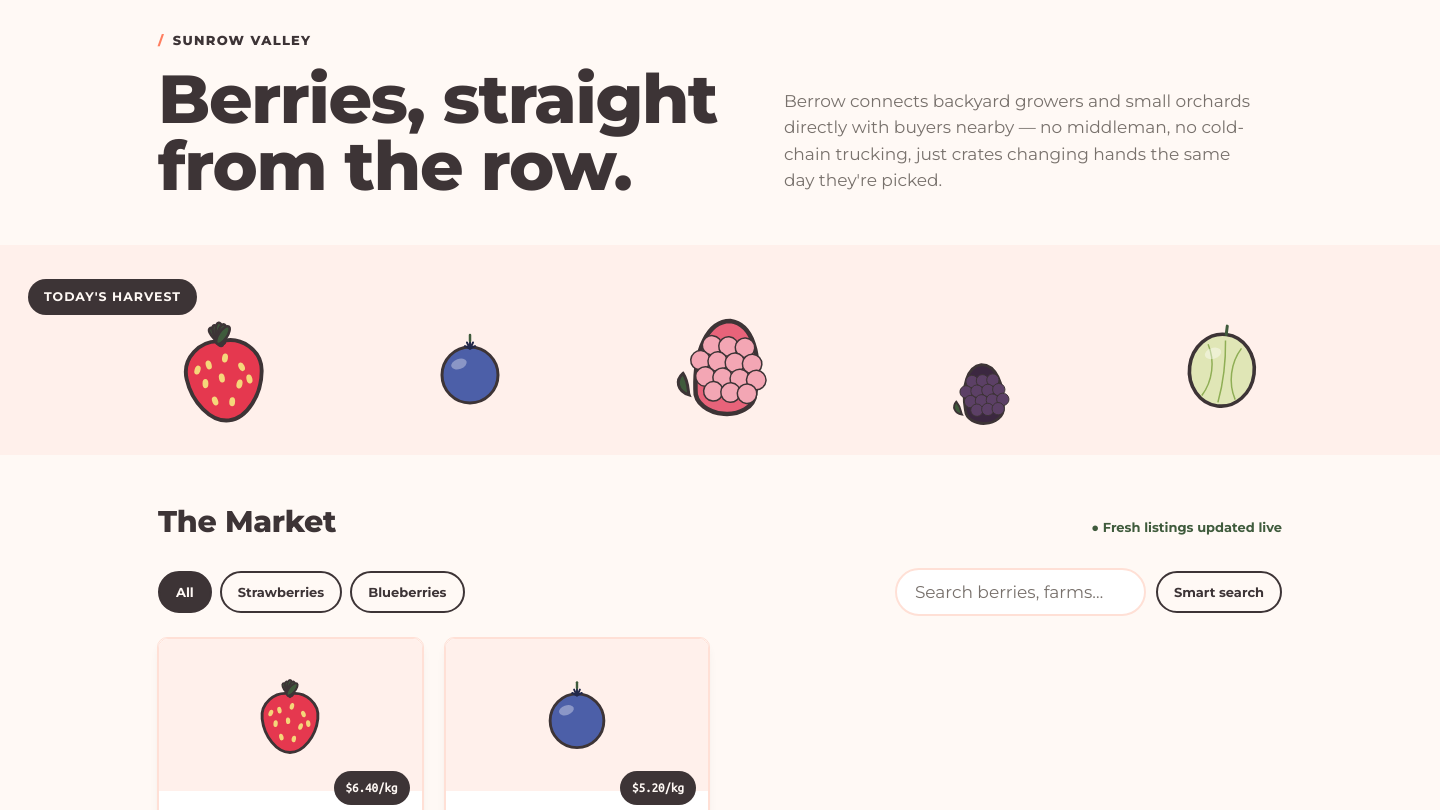
it: MarketPage › shows a toast instead of an unhandled rejection when smart search fails
The image size is (1440, 810).
Type "sweet berries for jam" into the search field at (1020, 592), box x1=895 y1=568 x2=1146 y2=616
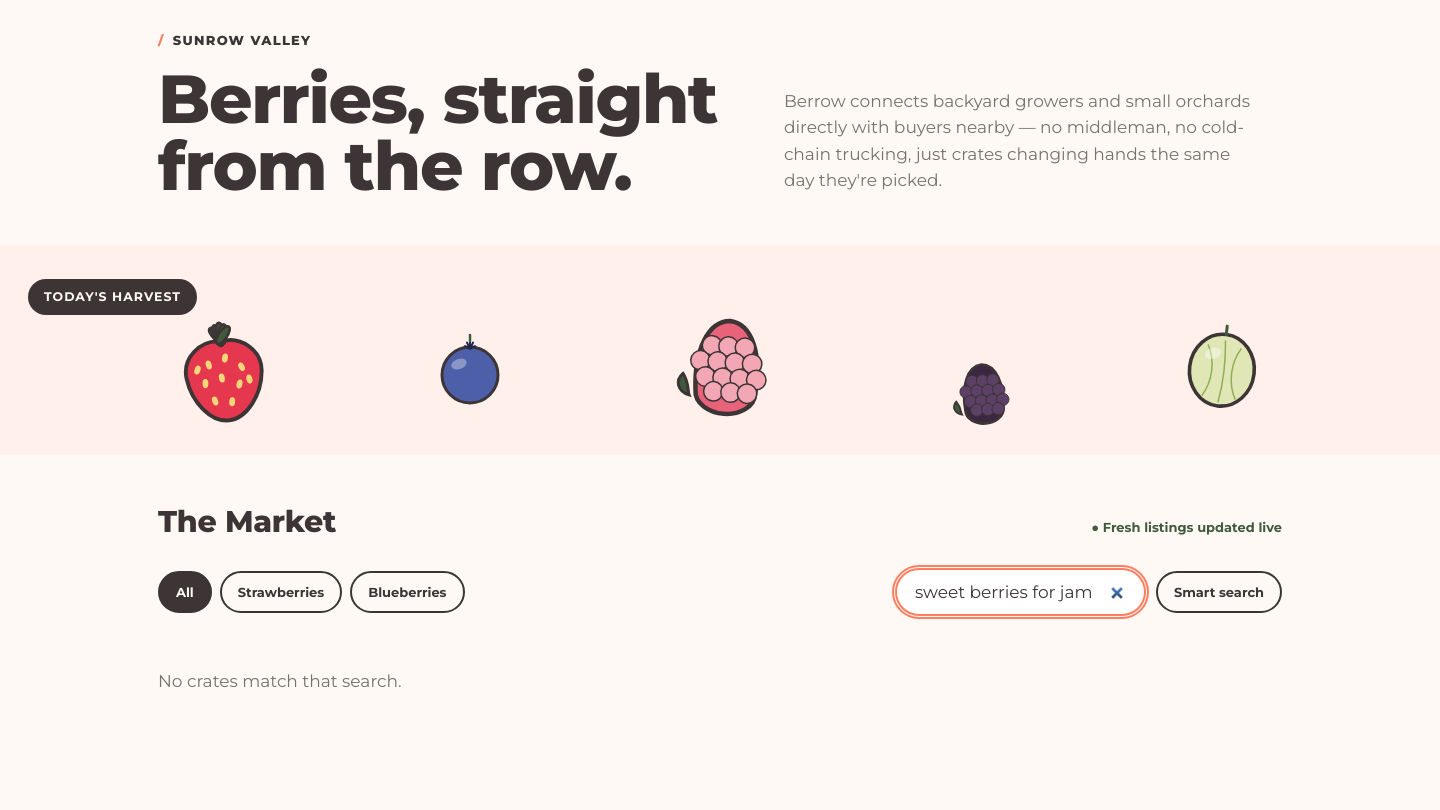
Click the button "Smart search" at (1219, 592), box x1=1156 y1=571 x2=1282 y2=613
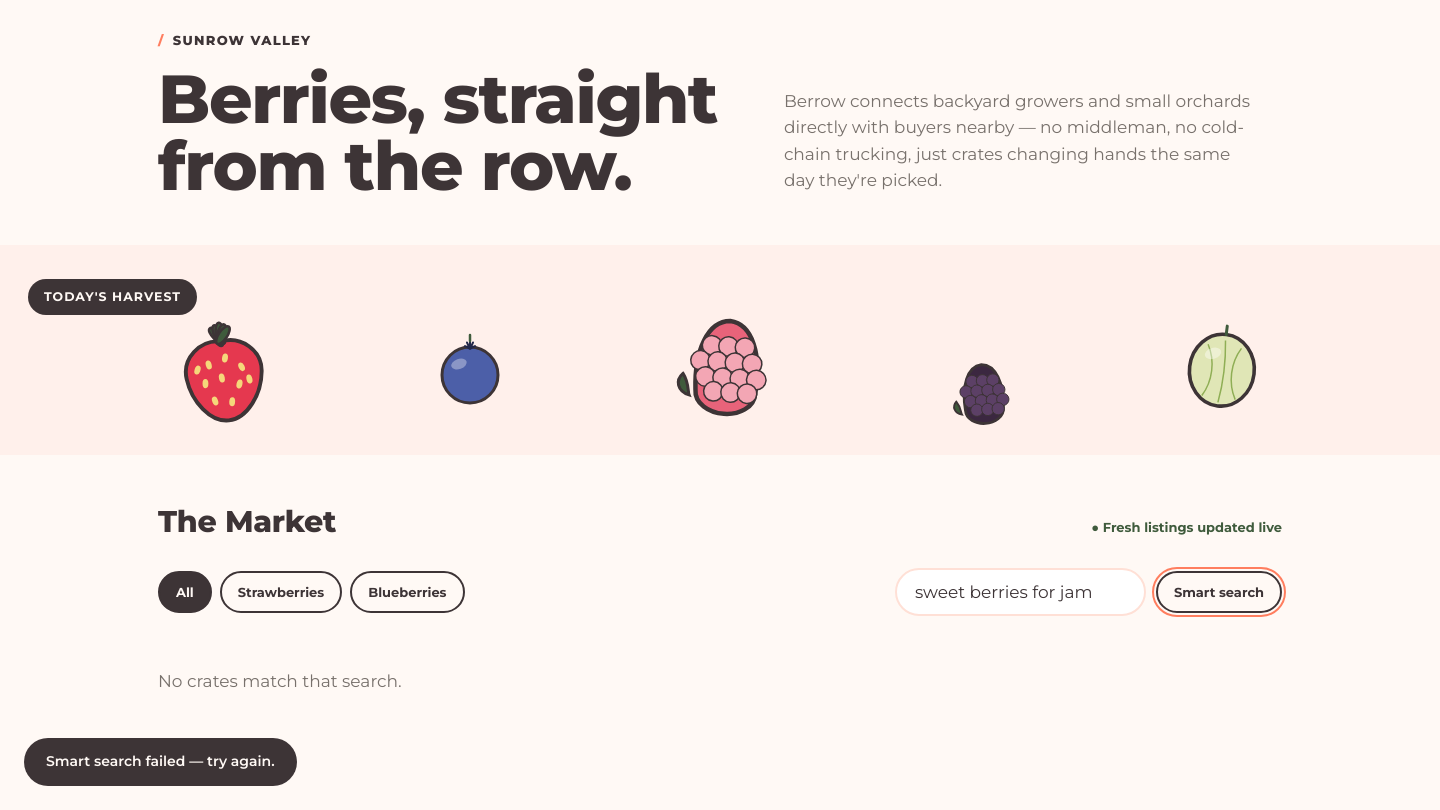
Result: the text "Smart search failed — try again." is shown at x1=24 y1=738 x2=297 y2=786
